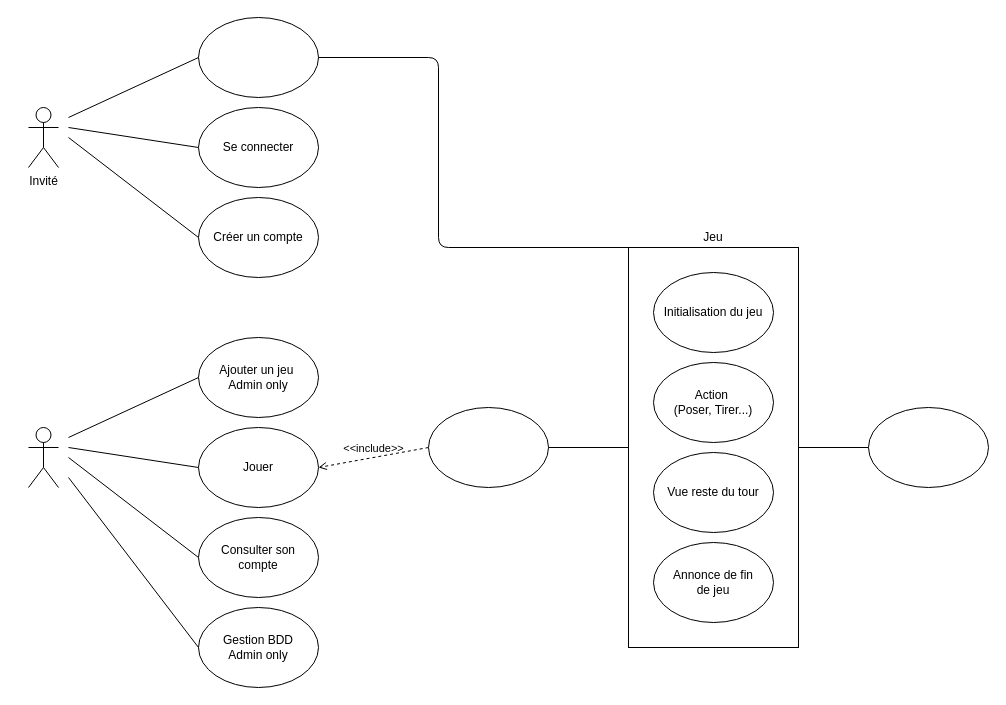
Image size: 1006x705. Some labels were removed from this diagram. Each missing label, with the centre of its shape:
"Choisir jeu (Attendre autres joueurs)" belongs at [488,447].
"Jouer en tant qu'invité" belongs at [258,57].
"Sauvegarde de la partie" belongs at [928,447].
"Utilisateur connecté" belongs at [43,457].
